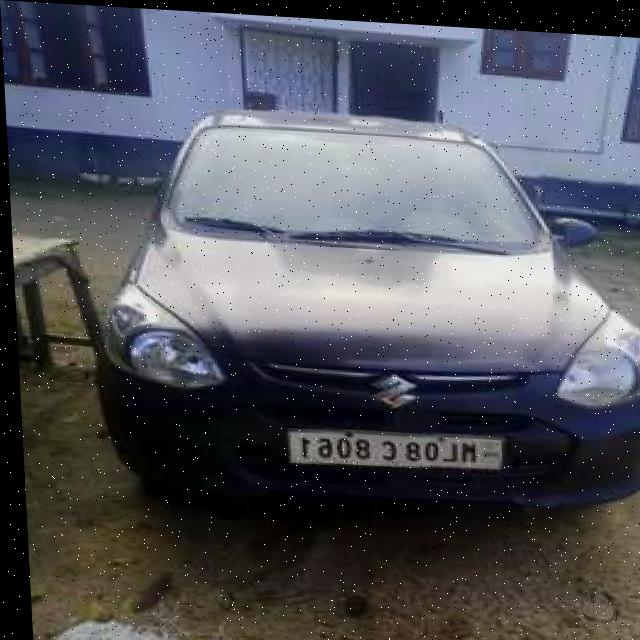plate: (279, 419, 507, 476)
